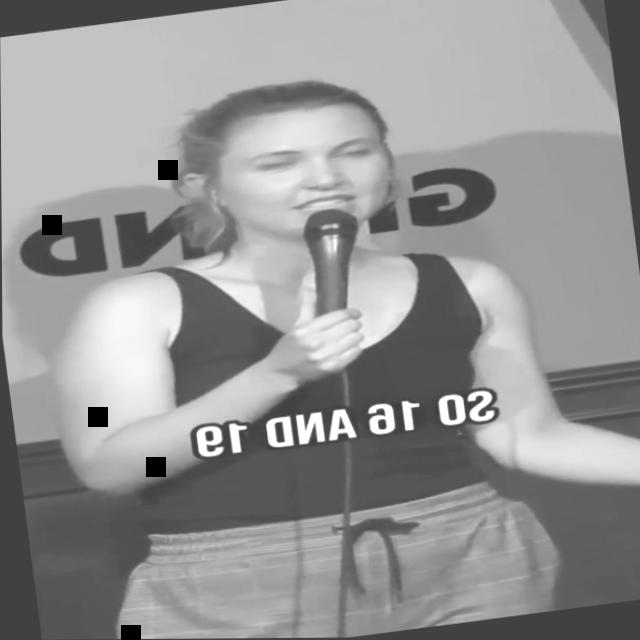NO-Mask: (202, 100, 405, 248)
